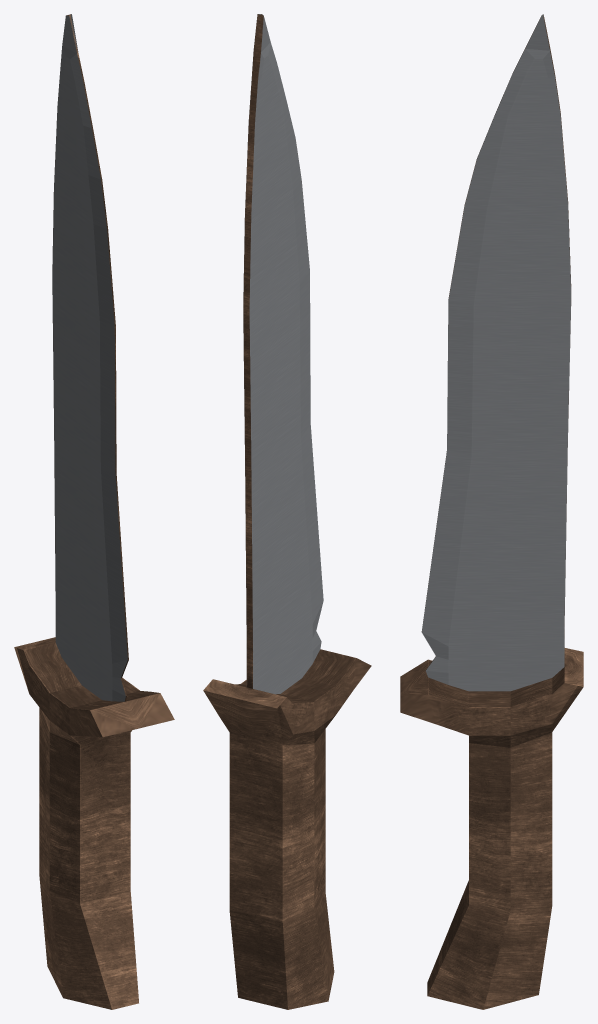
File: Mes_v002.fbx
3 renders of one model, left to right at view 1: azimuth 30°, elevation 25°; view 2: azimuth 150°, elevation 25°; view 3: azimuth 270°, elevation 25°, orthographic. The views are drawn at different scales.
Visible parts, largest first — view 1: Knife; view 2: Knife; view 3: Knife.
Part boxes in pixels (<box>): Knife: <box>14,14,174,1009</box>; Knife: <box>203,14,371,1009</box>; Knife: <box>400,14,583,1009</box>.
Bounding box in the file's own units: 2.07 × 26.12 × 4.44.
